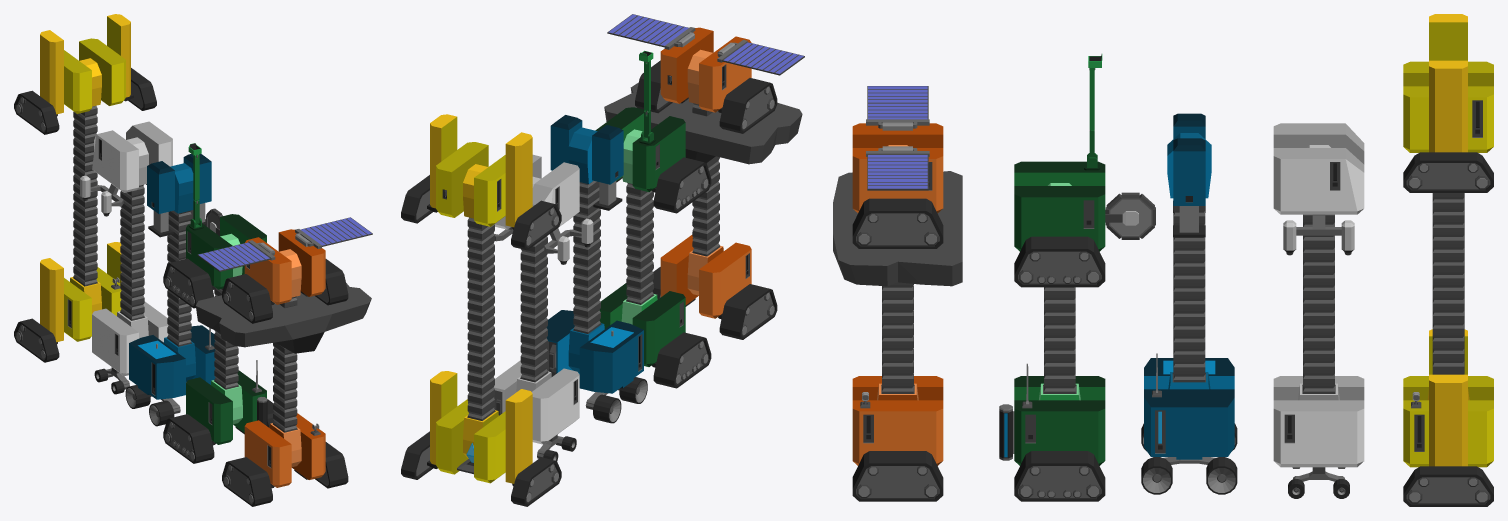
File: Robots.fbx
3 views of the same model, side by side, from view 1: azimuth 30°, elevation 25°; view 2: azimuth 150°, elevation 25°; view 3: azimuth 270°, elevation 25° (orthographic). The views are drawn at different scales.
Parts seen in each view (by area): view 1: FliingGround, LinkingPart.004, MainBody2, MainBody, Body2, Body2.002, Body2.003, LinkingPart.003, MainBody1, MainBody.001, Body2.001, MainBody.002 (+30 smaller); view 2: FliingGround, LinkingPart.004, MainBody2, Body2, MainBody, Body2.003, LinkingPart.003, MainBody.002, MainBody.001, LinkingPart.002, Body2.001, LinkingPart.001 (+30 smaller); view 3: Body2.002, FliingGround, MainBody.001, MainBody2, Body2.001, MainBody1, MainBody, LinkingPart.004, LinkingPart.003, LinkingPart.002, Body2, Body2.003 (+21 smaller).
Boxes of the visible parts, x1=… form: FliingGround: x1=196, y1=283, x2=371, y2=353; LinkingPart.004: x1=73, y1=106, x2=97, y2=286; MainBody2: x1=129, y1=325, x2=215, y2=399; MainBody: x1=244, y1=413, x2=325, y2=487; Body2: x1=244, y1=229, x2=325, y2=304; Body2.002: x1=92, y1=121, x2=172, y2=192; Body2.003: x1=64, y1=38, x2=125, y2=113; LinkingPart.003: x1=120, y1=184, x2=144, y2=320; MainBody1: x1=186, y1=370, x2=266, y2=444; MainBody.001: x1=92, y1=301, x2=168, y2=376; Body2.001: x1=186, y1=214, x2=266, y2=289; MainBody.002: x1=64, y1=267, x2=121, y2=341; FliingGround: x1=604, y1=82, x2=802, y2=164; LinkingPart.004: x1=467, y1=217, x2=494, y2=420; MainBody2: x1=546, y1=310, x2=643, y2=393; Body2: x1=660, y1=27, x2=751, y2=112; MainBody: x1=660, y1=235, x2=751, y2=318; Body2.003: x1=436, y1=142, x2=505, y2=226; LinkingPart.003: x1=520, y1=236, x2=547, y2=382; MainBody.002: x1=436, y1=399, x2=505, y2=483; MainBody.001: x1=493, y1=360, x2=579, y2=444; LinkingPart.002: x1=573, y1=181, x2=600, y2=333; Body2.001: x1=595, y1=107, x2=685, y2=191; LinkingPart.001: x1=626, y1=182, x2=653, y2=304; Body2.002: x1=1273, y1=123, x2=1364, y2=214; FliingGround: x1=833, y1=171, x2=962, y2=286; MainBody.001: x1=1273, y1=376, x2=1364, y2=467; MainBody2: x1=1144, y1=358, x2=1234, y2=459; Body2.001: x1=1014, y1=161, x2=1105, y2=251; MainBody1: x1=1014, y1=376, x2=1105, y2=465; MainBody: x1=852, y1=376, x2=943, y2=465; LinkingPart.004: x1=1432, y1=193, x2=1464, y2=374; LinkingPart.003: x1=1303, y1=214, x2=1334, y2=393; LinkingPart.002: x1=1173, y1=206, x2=1205, y2=382; Body2: x1=852, y1=122, x2=943, y2=213; Body2.003: x1=1403, y1=61, x2=1493, y2=152.
Size of the model in its own units: 753 by 1498 by 2040.
